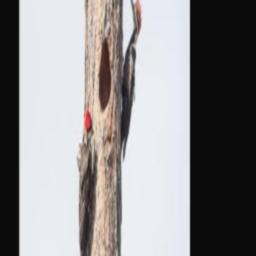Woodpecker: (121, 0, 142, 160), (79, 110, 95, 256)
